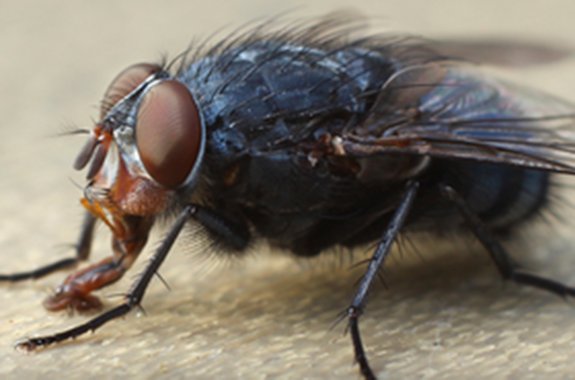house fly: (48, 5, 575, 365)
